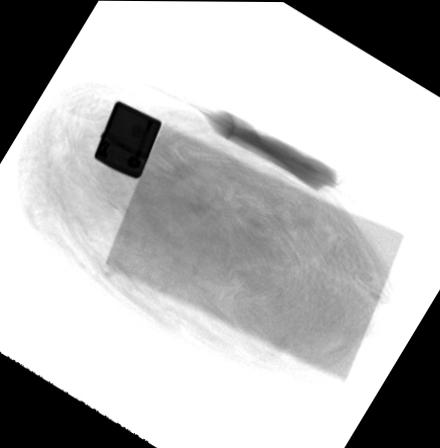Lighter: (93, 100, 161, 179)
